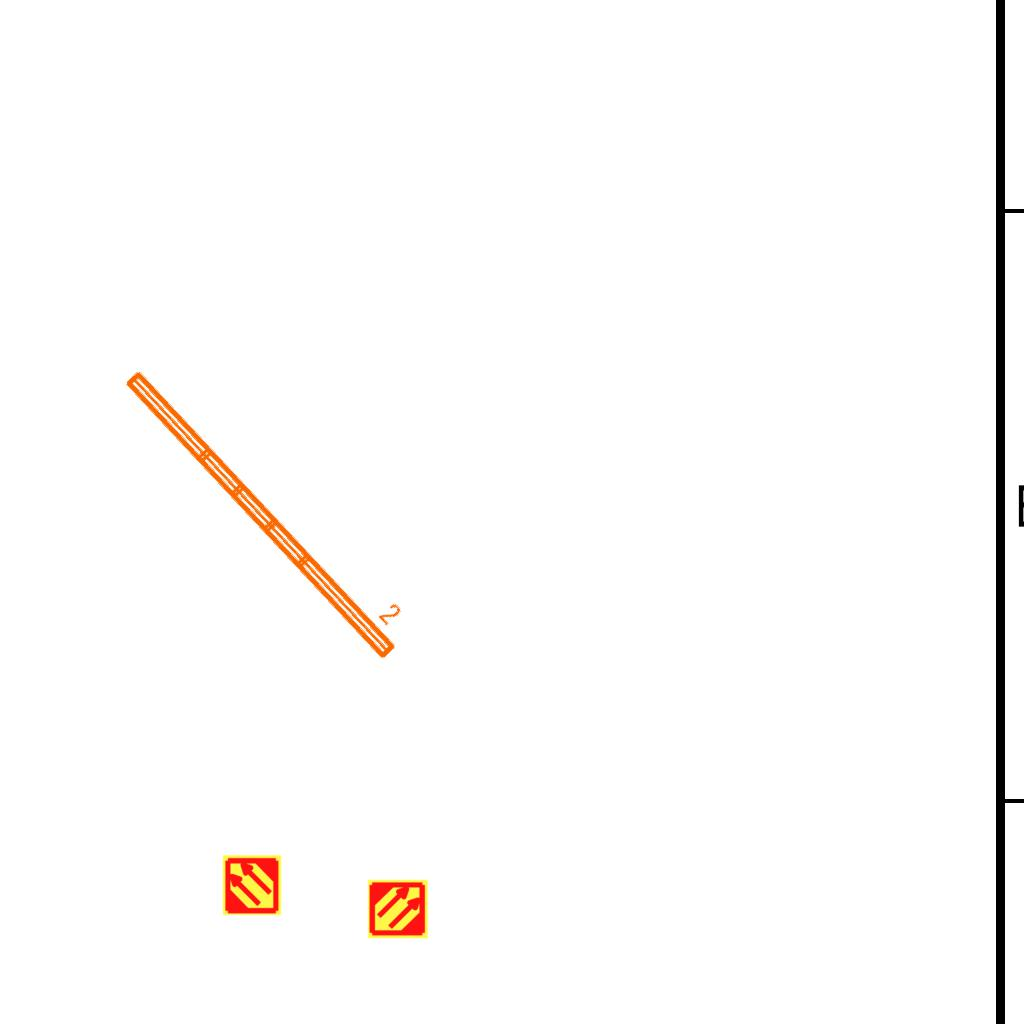ASR_Ansaugrauchmelder: (367, 878, 429, 940), (221, 854, 283, 916)
Ambulanz_Pendelleuchte_LED: (117, 345, 422, 667)
